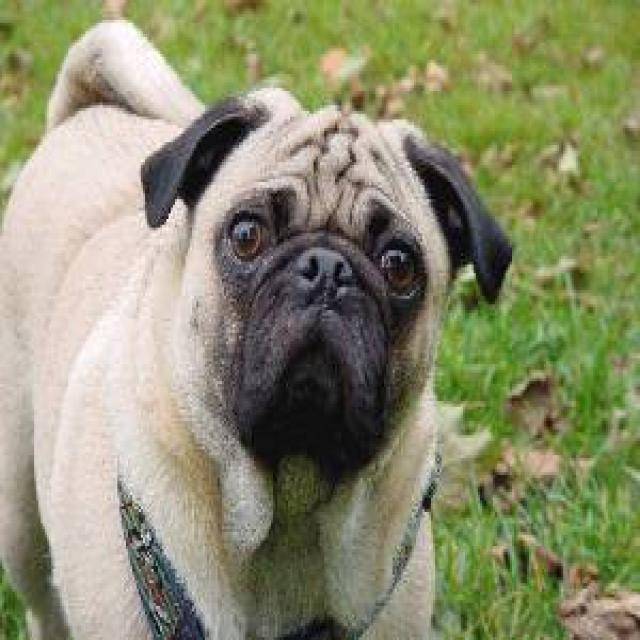dog-pug: (2, 9, 518, 634)
